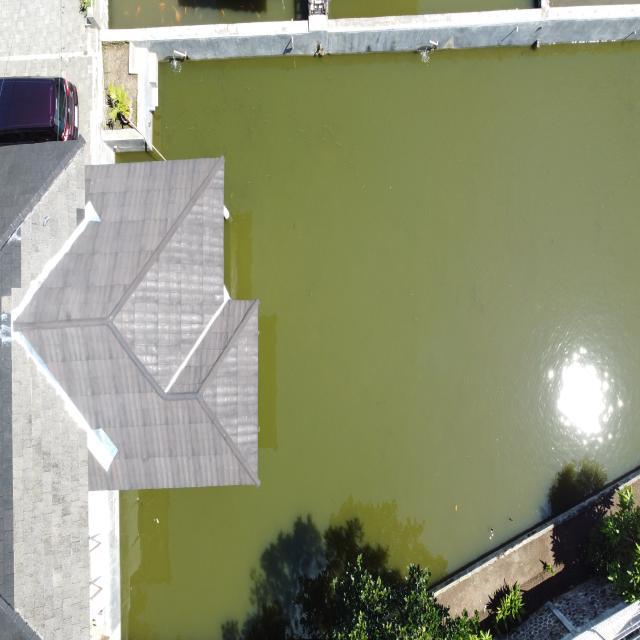Ponds: (104, 32, 640, 640)
